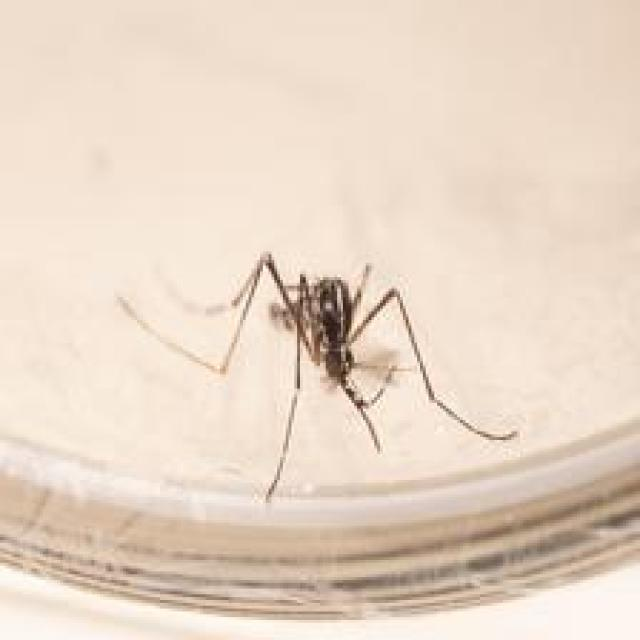Aedes albopictus: (114, 248, 520, 503)
